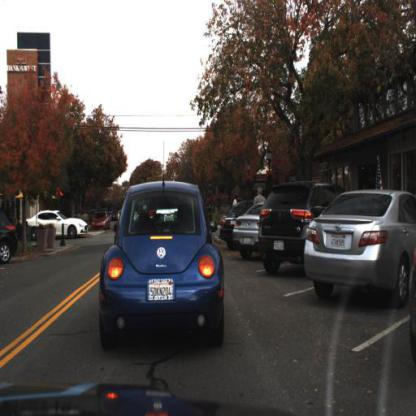car: (97, 179, 229, 353), (304, 188, 416, 303), (256, 183, 339, 275), (232, 198, 268, 257), (218, 198, 255, 251), (234, 203, 268, 260), (28, 209, 89, 240), (1, 212, 20, 260), (92, 210, 110, 234)
pedestrian: (254, 187, 267, 242)
